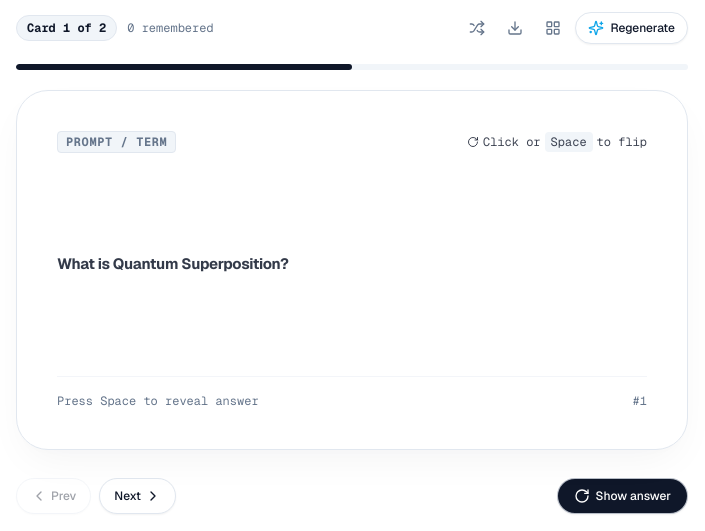
Test case: FlashcardsDeck › navigates to next card when next button is pressed
Click the button with aria-label "next card": coordinates (138, 496) x1=99 y1=478 x2=176 y2=514
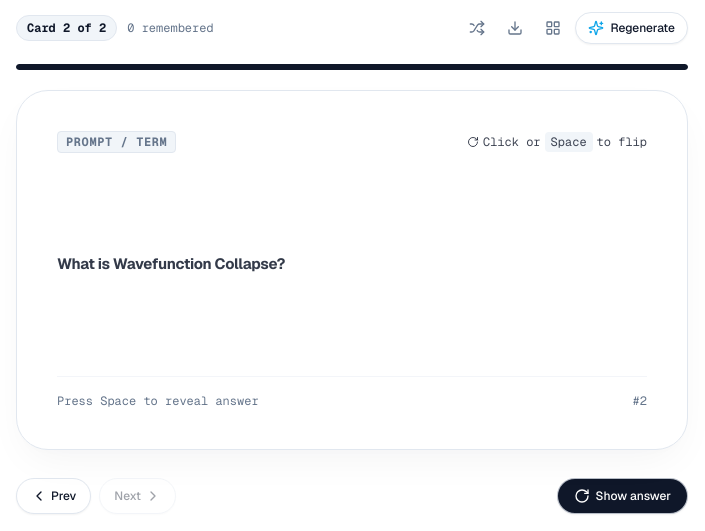
Check: the text "What is Wavefunction Collapse?" is shown, box x1=57 y1=254 x2=285 y2=273
